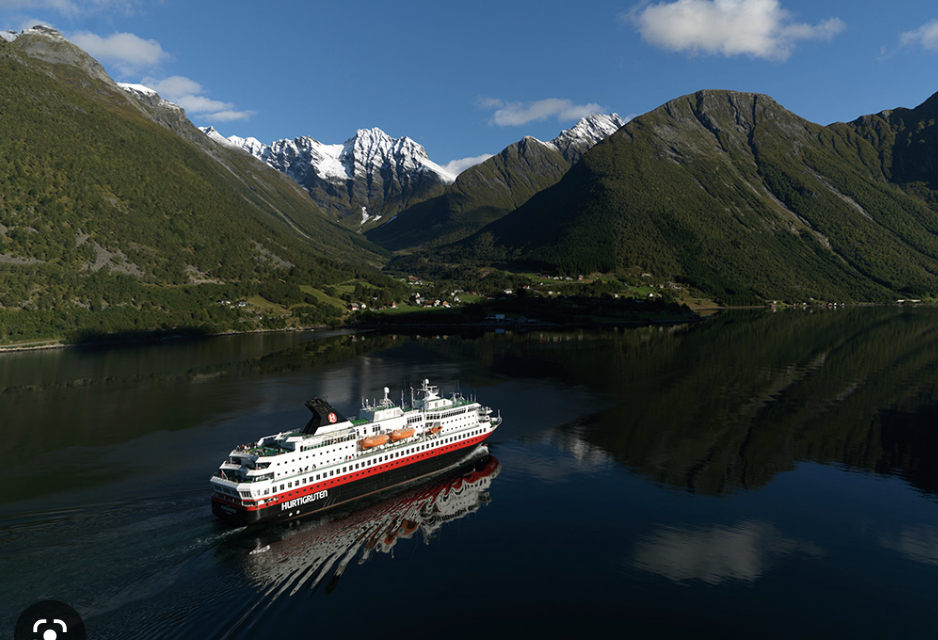ship: (172, 373, 516, 526)
